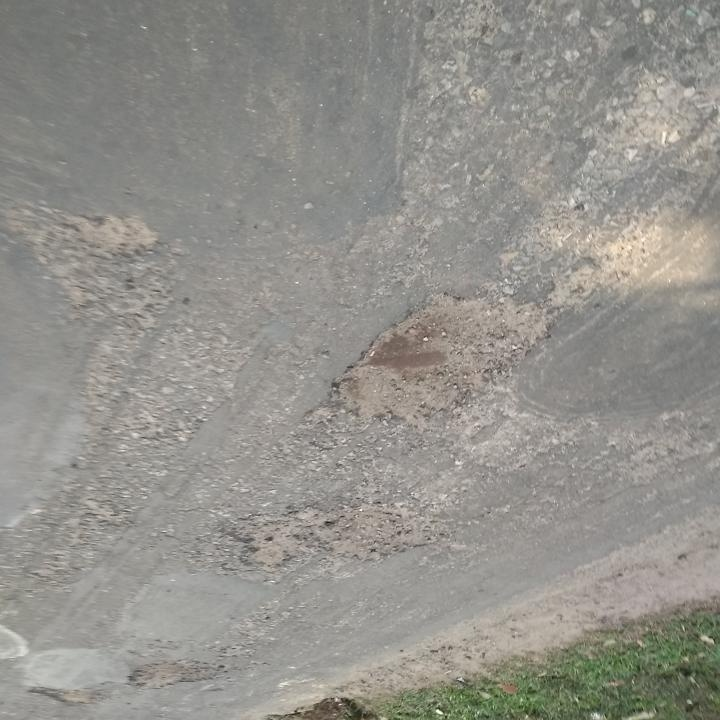pothole: (323, 287, 560, 433), (222, 501, 452, 571), (127, 654, 231, 693), (26, 680, 101, 709)
